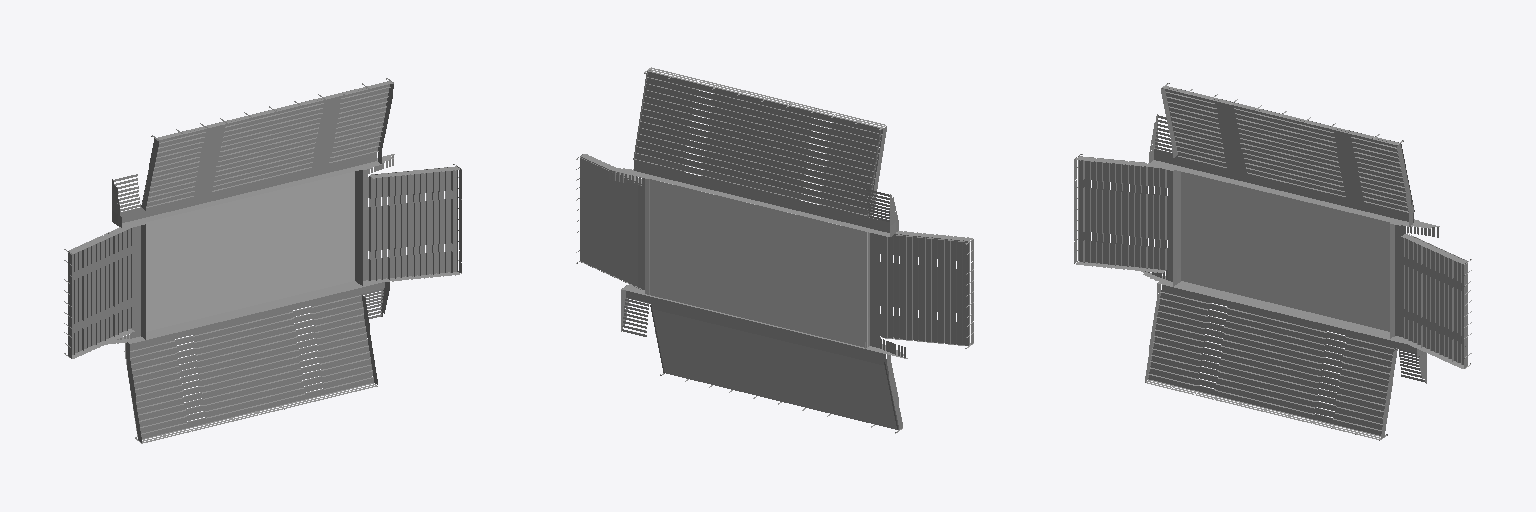
The model's file is Scena2.obj.
3 renders of one model, left to right at view 1: azimuth 30°, elevation 25°; view 2: azimuth 150°, elevation 25°; view 3: azimuth 330°, elevation 25°, orthographic.
Visible parts, largest first — view 1: Tribuna_Ovest_Node_013_mel_grandstand_genericmedium_a_physics_!b, Campo_Plane, Tribuna_Est_Node_013_mel_grandstand_genericmedium_a_physics_!bk., Curva_Sud.001_Node_013_mel_grandstand_genericmedium_a_physics_!b, Curva_Sud_Node_013_mel_grandstand_genericmedium_a_physics_!bk.00; view 2: Tribuna_Est_Node_013_mel_grandstand_genericmedium_a_physics_!bk., Campo_Plane, Tribuna_Ovest_Node_013_mel_grandstand_genericmedium_a_physics_!b, Curva_Sud_Node_013_mel_grandstand_genericmedium_a_physics_!bk.00, Curva_Sud.001_Node_013_mel_grandstand_genericmedium_a_physics_!b; view 3: Tribuna_Ovest_Node_013_mel_grandstand_genericmedium_a_physics_!b, Campo_Plane, Tribuna_Est_Node_013_mel_grandstand_genericmedium_a_physics_!bk., Curva_Sud_Node_013_mel_grandstand_genericmedium_a_physics_!bk.00, Curva_Sud.001_Node_013_mel_grandstand_genericmedium_a_physics_!b.
Part boxes in pixels (x1,y1,x2,y2): Tribuna_Ovest_Node_013_mel_grandstand_genericmedium_a_physics_!b: (122,280,389,443); Campo_Plane: (145,172,354,331); Tribuna_Est_Node_013_mel_grandstand_genericmedium_a_physics_!bk.: (112,78,393,227); Curva_Sud.001_Node_013_mel_grandstand_genericmedium_a_physics_!b: (355,154,461,285); Curva_Sud_Node_013_mel_grandstand_genericmedium_a_physics_!bk.00: (64,223,145,358); Tribuna_Est_Node_013_mel_grandstand_genericmedium_a_physics_!bk.: (629,67,898,236); Campo_Plane: (645,179,867,347); Tribuna_Ovest_Node_013_mel_grandstand_genericmedium_a_physics_!b: (621,284,902,433); Curva_Sud_Node_013_mel_grandstand_genericmedium_a_physics_!bk.00: (865,231,973,358); Curva_Sud.001_Node_013_mel_grandstand_genericmedium_a_physics_!b: (576,154,649,294); Tribuna_Ovest_Node_013_mel_grandstand_genericmedium_a_physics_!b: (1145,276,1426,440); Campo_Plane: (1181,172,1389,331); Tribuna_Est_Node_013_mel_grandstand_genericmedium_a_physics_!bk.: (1149,83,1418,226); Curva_Sud_Node_013_mel_grandstand_genericmedium_a_physics_!bk.00: (1074,154,1180,286); Curva_Sud.001_Node_013_mel_grandstand_genericmedium_a_physics_!b: (1390,221,1471,368).
Size of the model in its own units: 70.42 by 51.65 by 6.69.